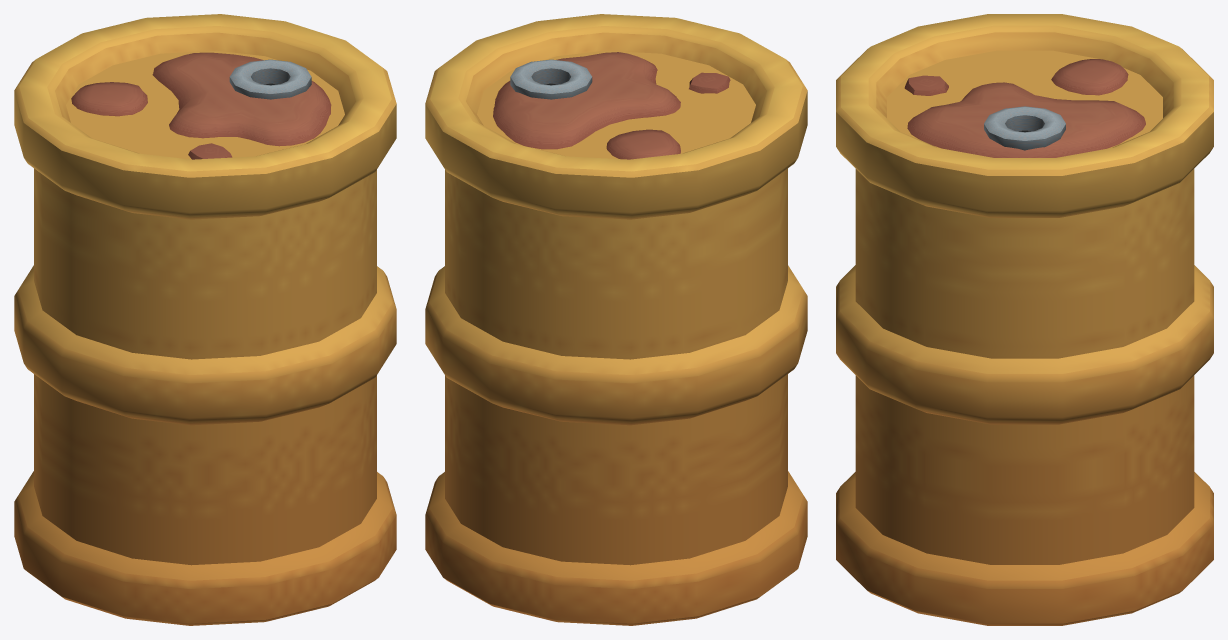
File: Fuel_B_Barrel_Dirty.gltf
The picture shows the model from 3 angles, left to right: view 1: azimuth 30°, elevation 25°; view 2: azimuth 150°, elevation 25°; view 3: azimuth 270°, elevation 25°; orthographic projection.
Visible parts, largest first — view 1: Fuel_B_Barrel_Dirty; view 2: Fuel_B_Barrel_Dirty; view 3: Fuel_B_Barrel_Dirty.
Part boxes in pixels (left/top/right/bottom): Fuel_B_Barrel_Dirty: left=14, top=14, right=396, bottom=625; Fuel_B_Barrel_Dirty: left=425, top=14, right=807, bottom=625; Fuel_B_Barrel_Dirty: left=836, top=14, right=1213, bottom=625.
Bounding box in the file's own units: 0.75 × 1.01 × 0.75.
1 material, 1 textured.
